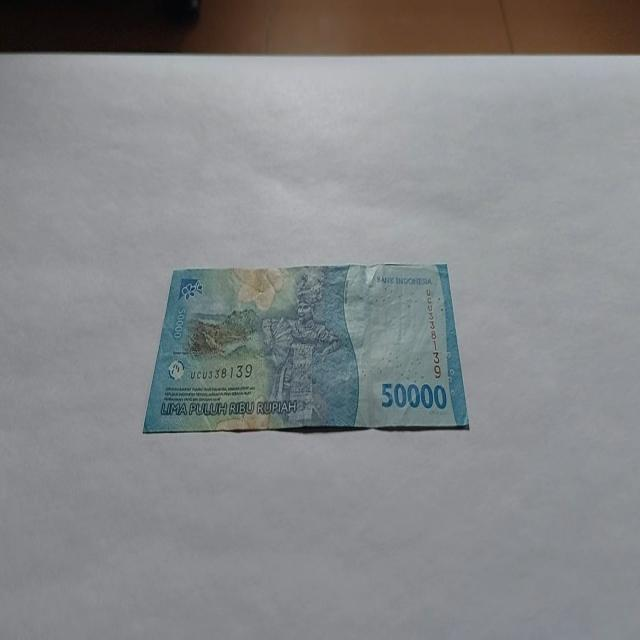lima puluh ribu rupiah: (142, 260, 470, 434)
